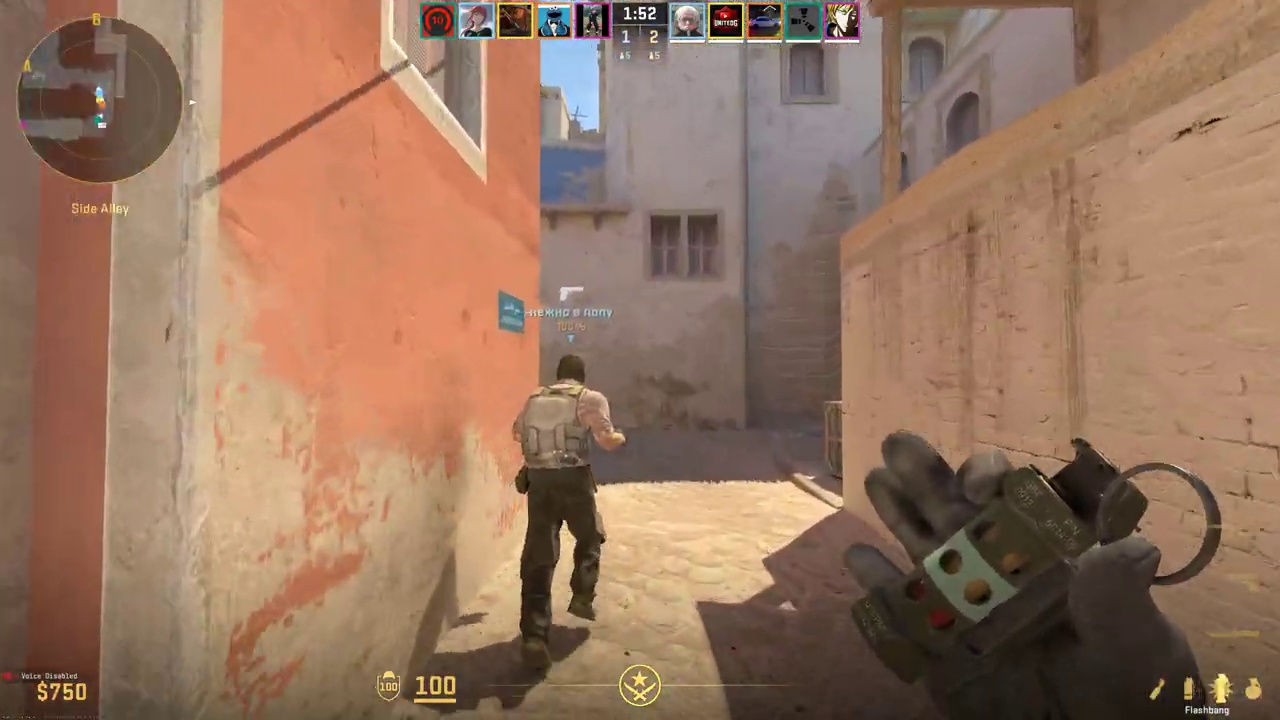Terrorist: (512, 355, 612, 665)
